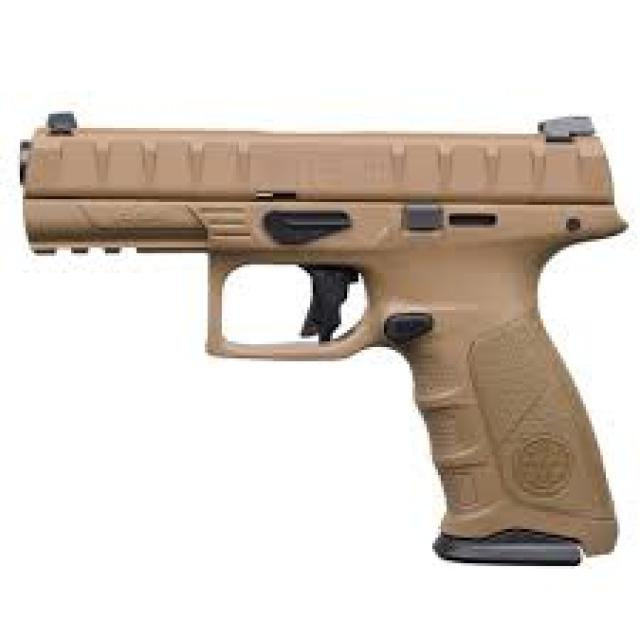pistol: (7, 111, 631, 587)
